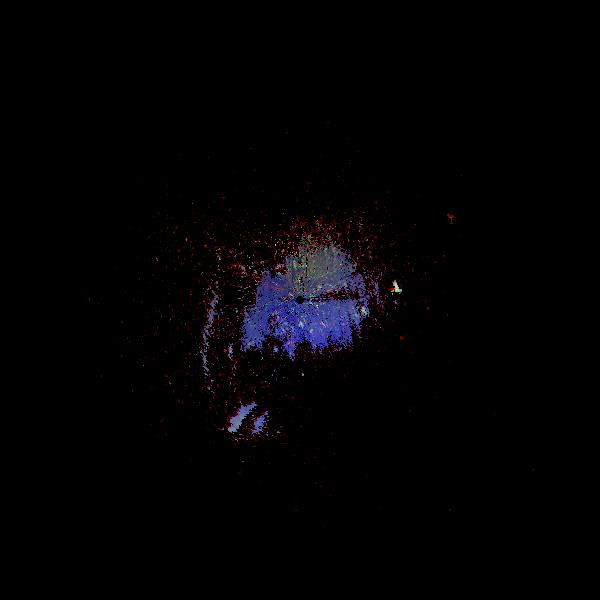roost: (391, 282, 403, 294)
